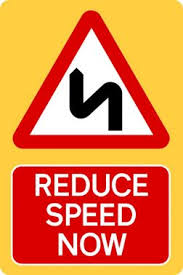Double_bend_left: (3, 5, 183, 154)
